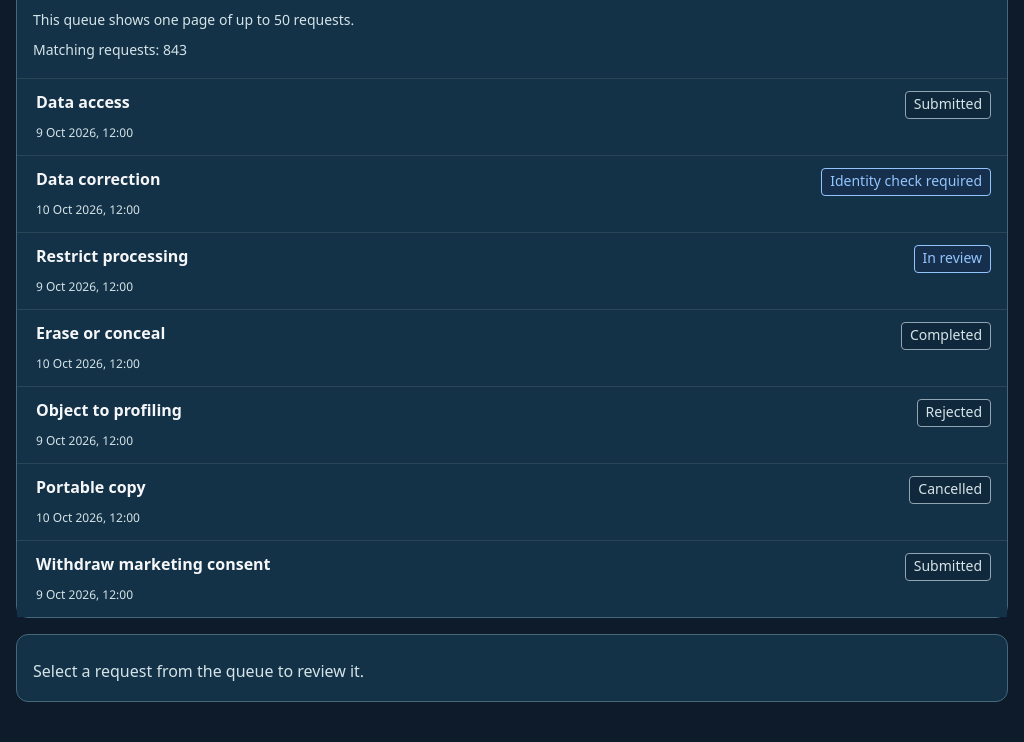
Privacy request human-review archetype en — MOCKED UI-CONTRACT EVIDENCE › final row 5 locks status/summary/identity, preserves resolution and has no Save or reopen action
(page scrolled)
Click the button "Portable copy Cancelled 10 Oct 2026, 12:00". click: (91, 488)
box: [17,464,1007,540]
(page scrolled)
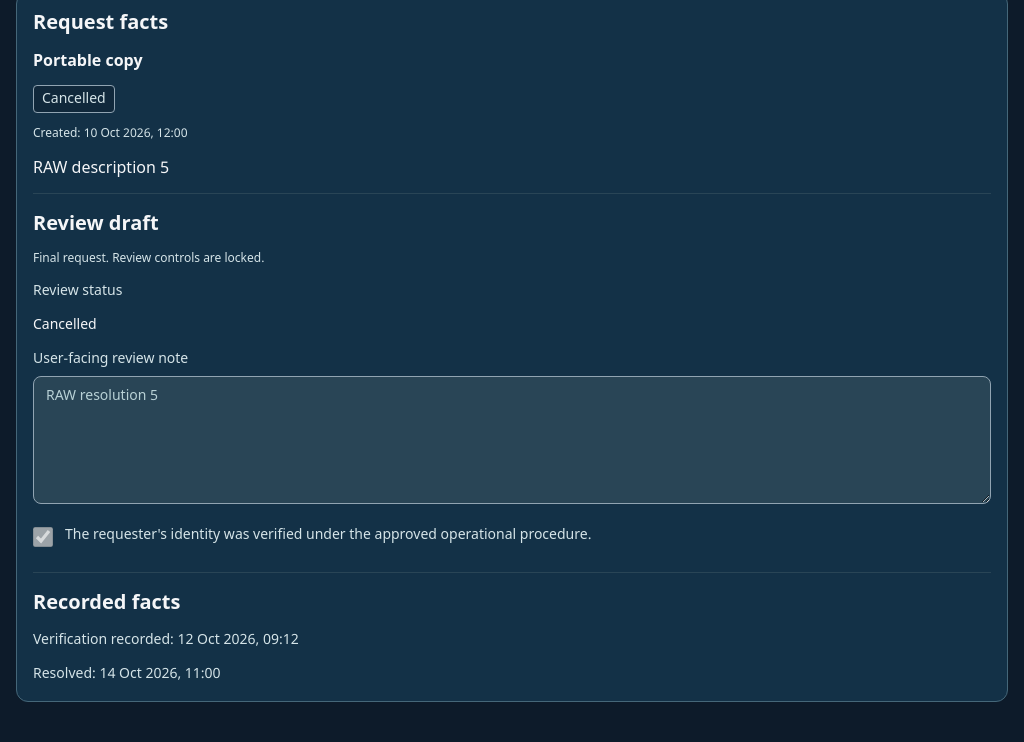
Expected: the label labelled "Review status" is disabled, [33,276,122,305]
Expected: the text box labelled "User-facing review note" is disabled, [33,376,991,504]
Expected: the checkbox is disabled, [33,527,53,547]
